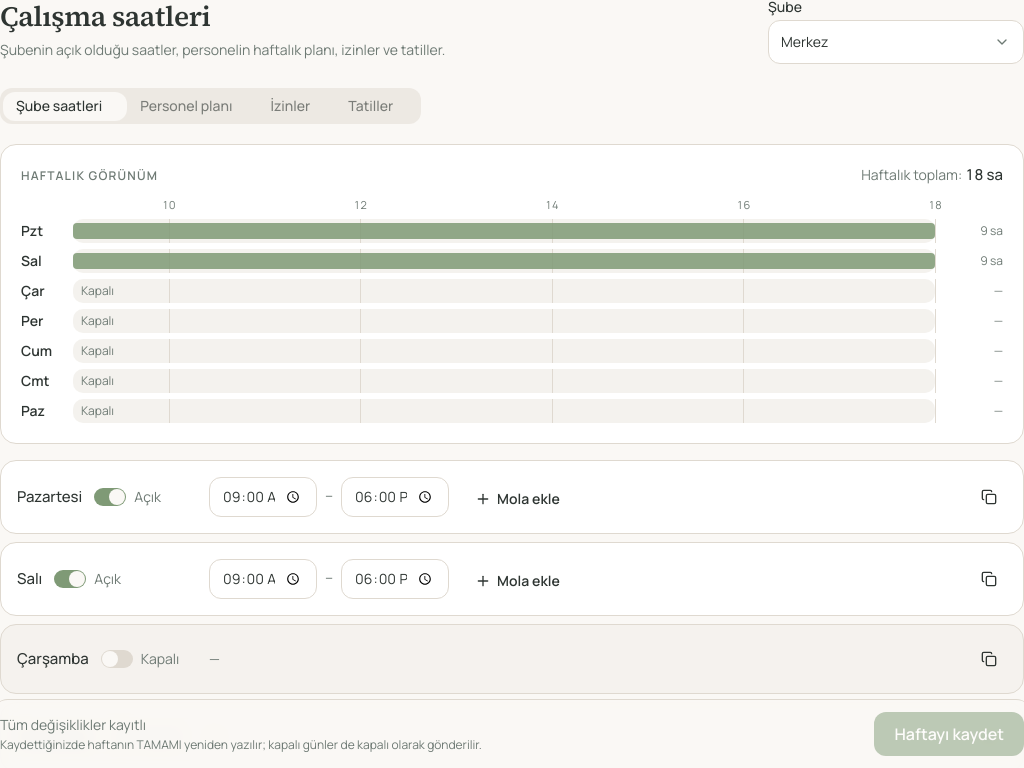
Scenario: çalışma saatleri — izinler › eksik form gönderilmiyor, hatalar alanların altında
Click the tab "İzinler": (296, 106) [257, 92, 335, 120]
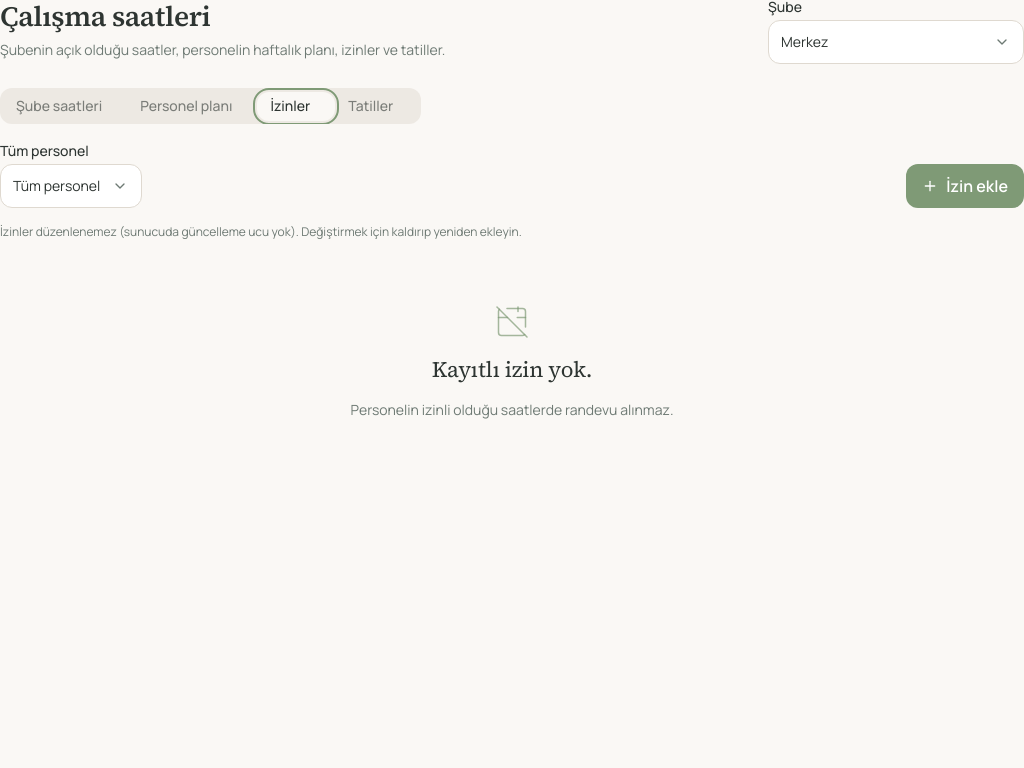
Click the button "İzin ekle": (965, 186) [906, 164, 1023, 208]
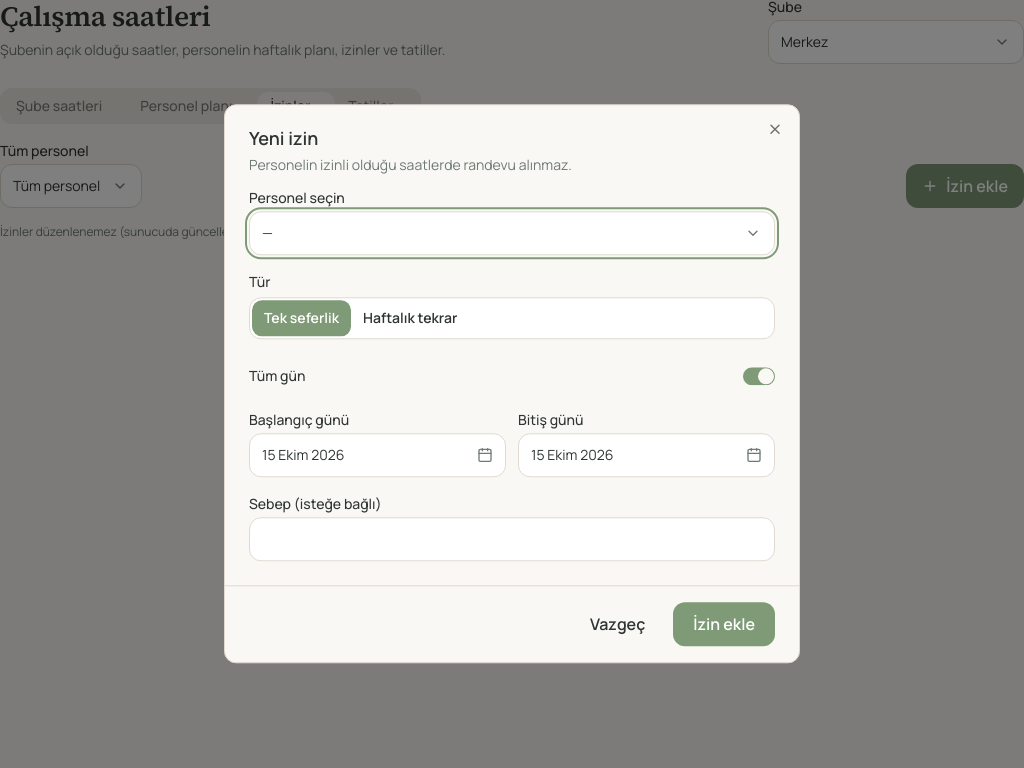
Click the button "Haftalık tekrar": (410, 318) [351, 300, 470, 336]
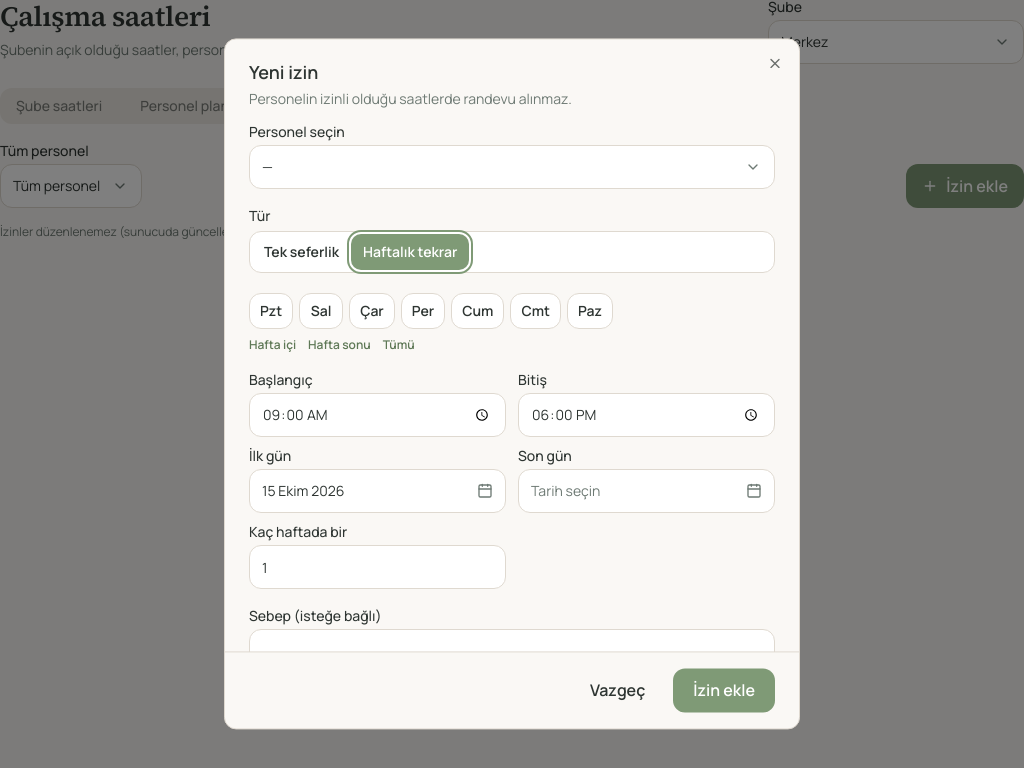
Click the button "İzin ekle": (724, 691) [673, 669, 775, 713]
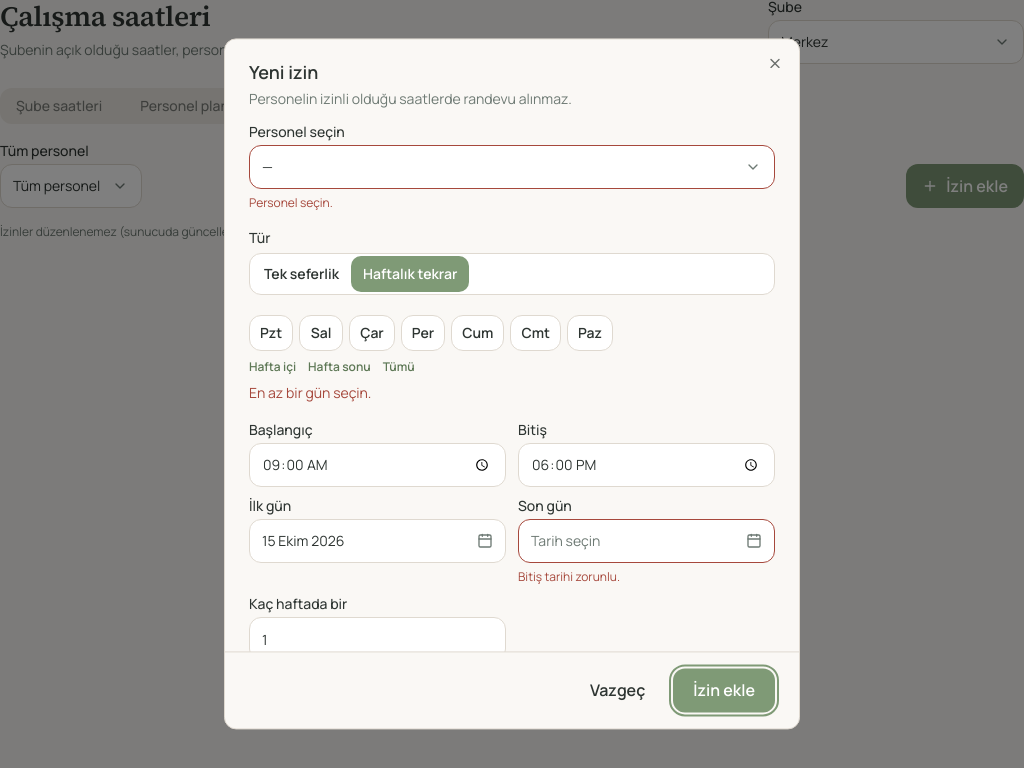
Check: the text "Personel seçin." is shown, box [249, 194, 333, 211]
Check: the text "En az bir gün seçin." is shown, box [249, 383, 371, 402]
Check: the text "Bitiş tarihi zorunlu." is shown, box [518, 568, 620, 585]
